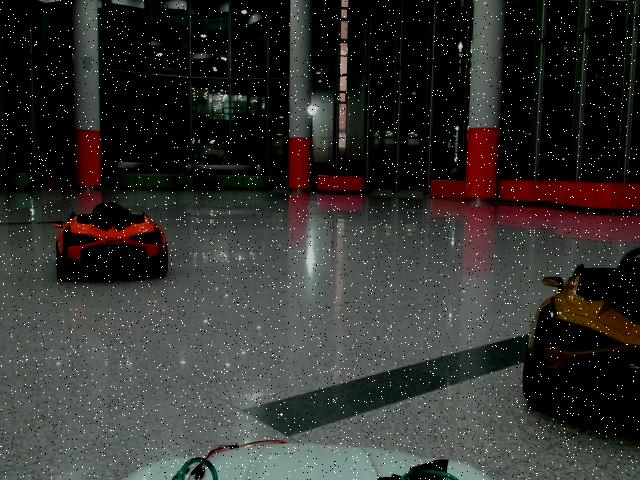car: (523, 247, 640, 422), (52, 202, 168, 282)
